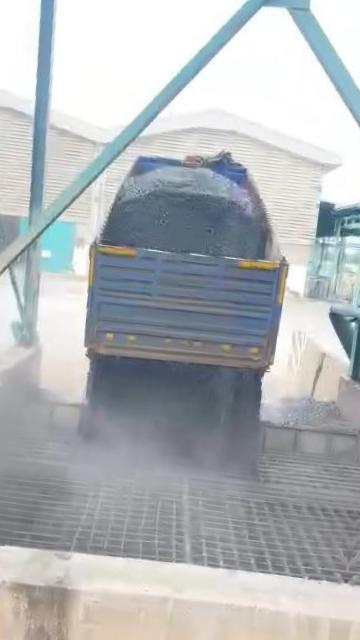gravel: (82, 358, 263, 466), (105, 166, 269, 259), (284, 398, 337, 426)
